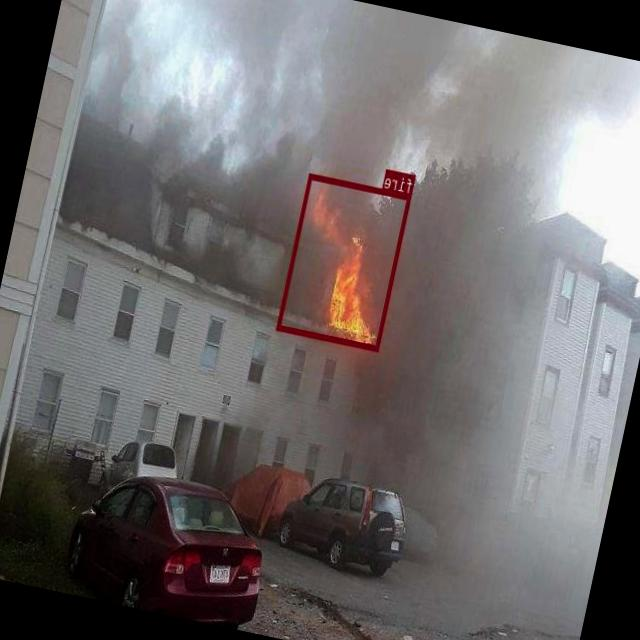fire: (277, 173, 412, 351)
